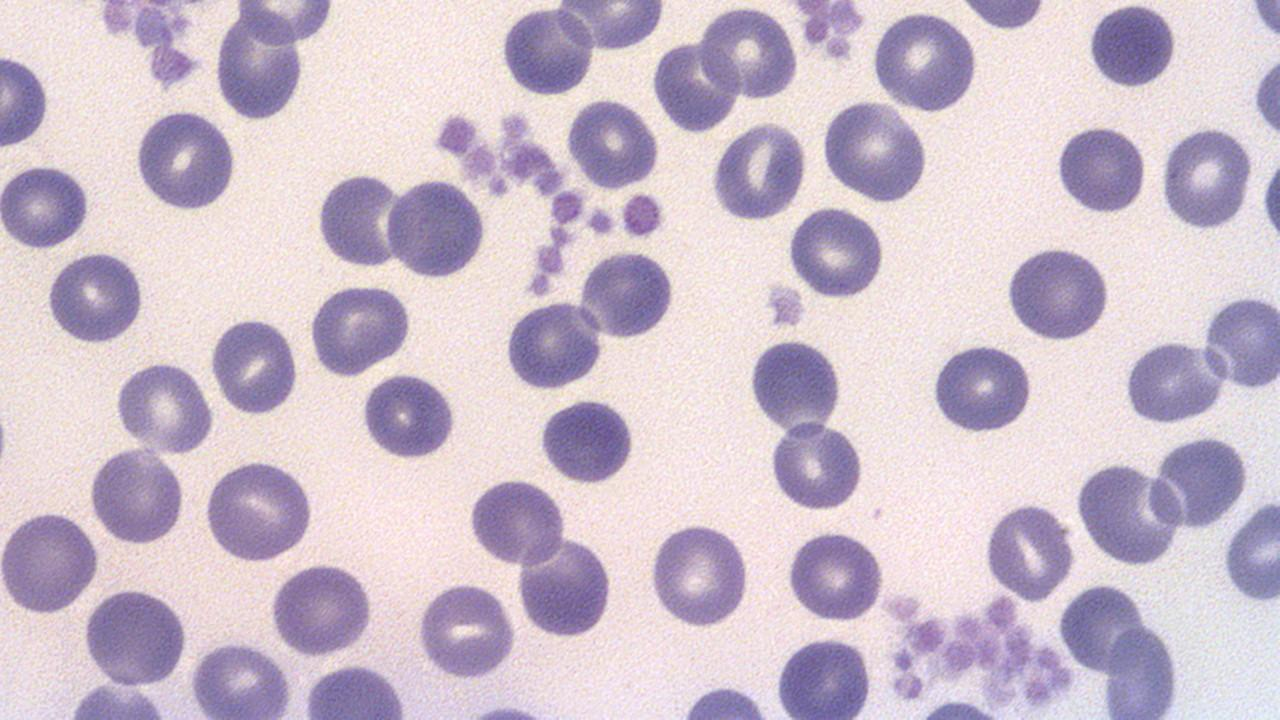Platelets: (620, 189, 668, 240), (764, 281, 806, 333), (434, 110, 478, 157), (498, 110, 534, 141)
RBC: (1073, 454, 1185, 570), (646, 518, 754, 630), (1002, 238, 1115, 345), (203, 456, 316, 563), (131, 105, 241, 214), (870, 7, 981, 114), (81, 584, 191, 690), (820, 98, 932, 202), (383, 174, 489, 282), (0, 506, 102, 618), (213, 5, 307, 126), (512, 534, 618, 640), (512, 535, 618, 641), (267, 558, 378, 656), (85, 445, 190, 548), (414, 579, 519, 680), (928, 338, 1036, 436), (306, 282, 415, 379), (1149, 431, 1253, 532), (708, 120, 809, 224), (980, 494, 1076, 603), (112, 358, 216, 456), (1158, 126, 1254, 232), (784, 526, 886, 623), (44, 250, 147, 346), (784, 204, 888, 299), (500, 298, 605, 392), (1051, 120, 1151, 218), (700, 1, 802, 97), (536, 392, 638, 488), (312, 167, 407, 270), (465, 474, 567, 569), (358, 368, 460, 462), (1121, 336, 1225, 428), (209, 312, 301, 416), (498, 2, 595, 100), (748, 337, 848, 432), (766, 418, 866, 513), (576, 250, 680, 340), (648, 33, 742, 132), (564, 96, 662, 189), (768, 635, 877, 716), (1084, 2, 1180, 93), (186, 638, 292, 718), (0, 161, 93, 251), (1102, 621, 1186, 717), (1201, 290, 1279, 392), (1222, 492, 1280, 606), (300, 658, 412, 716), (1, 36, 52, 155), (227, 0, 341, 45), (946, 0, 1055, 31), (1258, 133, 1280, 274), (1252, 45, 1280, 147)
